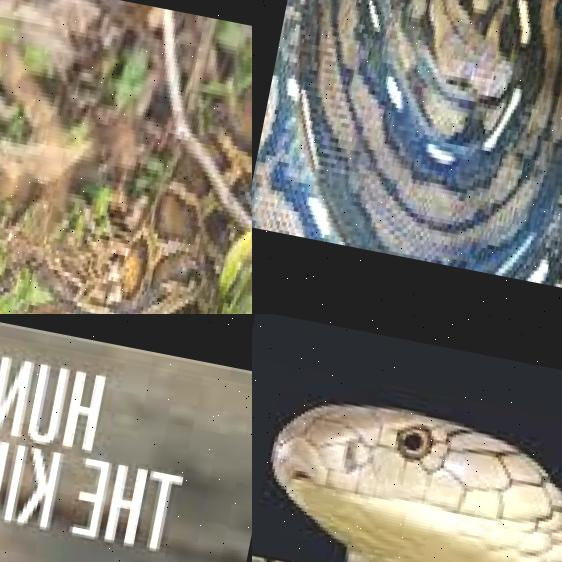snake: (252, 0, 562, 299), (0, 0, 252, 314), (252, 356, 562, 562)
